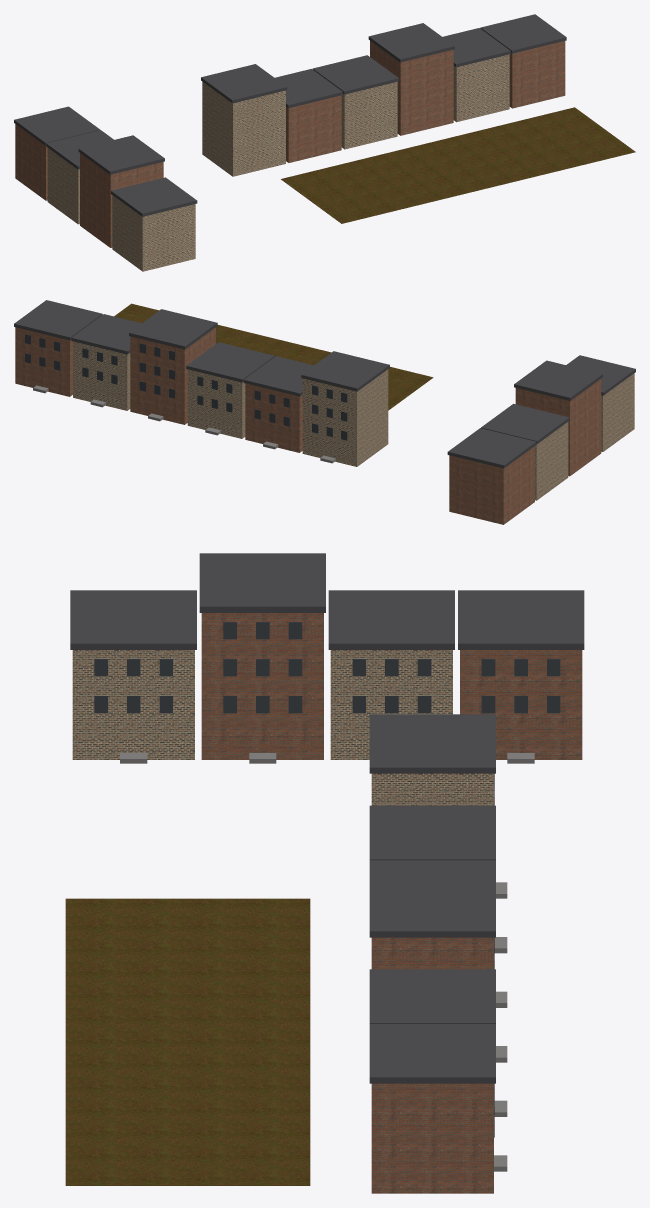
The model's file is chunk_Rowhouses.glb.
3 views of the same model, one above another, from view 1: azimuth 30°, elevation 25°; view 2: azimuth 150°, elevation 25°; view 3: azimuth 270°, elevation 25° (orthographic). The views are drawn at different scales.
Visible parts, largest first — view 1: EmptyLot_SE, Row_Rowhouses_0.001, Row_Rowhouses_3.001, Row_Rowhouses_0, Row_Rowhouses_1, Row_Rowhouses_4, Row_Rowhouses_5, Row_Rowhouses_2.001, Row_Rowhouses_1.001, RowRoof_Rowhouses_0, RowRoof_Rowhouses_3.001, RowRoof_Rowhouses_0.001 (+9 smaller); view 2: Row_Rowhouses_0.001, Row_Rowhouses_3, Row_Rowhouses_3.001, Row_Rowhouses_1, EmptyLot_SE, Row_Rowhouses_2.001, Row_Rowhouses_4, Row_Rowhouses_5, Row_Rowhouses_1.001, RowRoof_Rowhouses_3, RowRoof_Rowhouses_0.001, RowRoof_Rowhouses_3.001 (+9 smaller); view 3: EmptyLot_SE, Row_Rowhouses_1, Row_Rowhouses_5, Row_Rowhouses_0, Row_Rowhouses_3, Row_Rowhouses_2, RowRoof_Rowhouses_0, RowRoof_Rowhouses_1, RowRoof_Rowhouses_2, RowRoof_Rowhouses_3, RowRoof_Rowhouses_0.001, RowRoof_Rowhouses_3.001 (+6 smaller).
Part boxes in pixels (left/top/right/bottom): EmptyLot_SE: left=281, top=107, right=635, bottom=223; Row_Rowhouses_0.001: left=202, top=81, right=285, bottom=176; Row_Rowhouses_3.001: left=370, top=40, right=453, bottom=135; Row_Rowhouses_0: left=112, top=195, right=195, bottom=271; Row_Rowhouses_1: left=80, top=153, right=163, bottom=247; Row_Rowhouses_4: left=453, top=54, right=509, bottom=122; Row_Rowhouses_5: left=509, top=41, right=565, bottom=108; Row_Rowhouses_2.001: left=341, top=81, right=397, bottom=149; Row_Rowhouses_1.001: left=286, top=95, right=341, bottom=162; RowRoof_Rowhouses_0: left=111, top=177, right=197, bottom=216; RowRoof_Rowhouses_3.001: left=368, top=23, right=454, bottom=62; RowRoof_Rowhouses_0.001: left=201, top=64, right=287, bottom=103; Row_Rowhouses_0.001: left=302, top=369, right=388, bottom=466; Row_Rowhouses_3: left=449, top=446, right=534, bottom=524; Row_Rowhouses_3.001: left=130, top=327, right=215, bottom=424; Row_Rowhouses_1: left=515, top=379, right=601, bottom=476; EmptyLot_SE: left=114, top=303, right=433, bottom=410; Row_Rowhouses_2.001: left=187, top=369, right=245, bottom=438; Row_Rowhouses_4: left=73, top=341, right=130, bottom=410; Row_Rowhouses_5: left=15, top=327, right=72, bottom=396; Row_Rowhouses_1.001: left=245, top=383, right=302, bottom=452; RowRoof_Rowhouses_3: left=447, top=428, right=536, bottom=468; RowRoof_Rowhouses_0.001: left=301, top=351, right=389, bottom=391; RowRoof_Rowhouses_3.001: left=129, top=309, right=217, bottom=349; EmptyLot_SE: left=65, top=898, right=310, bottom=1185; Row_Rowhouses_1: left=201, top=613, right=323, bottom=759; Row_Rowhouses_5: left=371, top=1083, right=493, bottom=1193; Row_Rowhouses_0: left=72, top=650, right=194, bottom=759; Row_Rowhouses_3: left=460, top=650, right=582, bottom=759; Row_Rowhouses_2: left=330, top=650, right=452, bottom=759; RowRoof_Rowhouses_0: left=70, top=590, right=196, bottom=649; RowRoof_Rowhouses_1: left=199, top=553, right=325, bottom=612; RowRoof_Rowhouses_2: left=328, top=590, right=454, bottom=649; RowRoof_Rowhouses_3: left=458, top=590, right=584, bottom=649; RowRoof_Rowhouses_0.001: left=369, top=714, right=495, bottom=773; RowRoof_Rowhouses_3.001: left=369, top=878, right=495, bottom=937.
Size of the model in its own units: 84.8 by 12.5 by 38.15.
6 materials, 3 textured.
